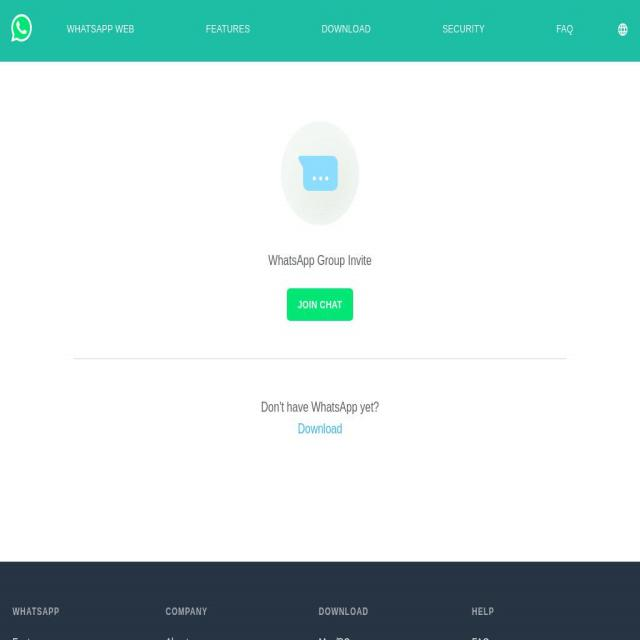download: (292, 415, 350, 445)
language: (610, 10, 639, 52)
navigation-blocks: (50, 18, 588, 62)
navigation-links: (3, 591, 577, 640)
